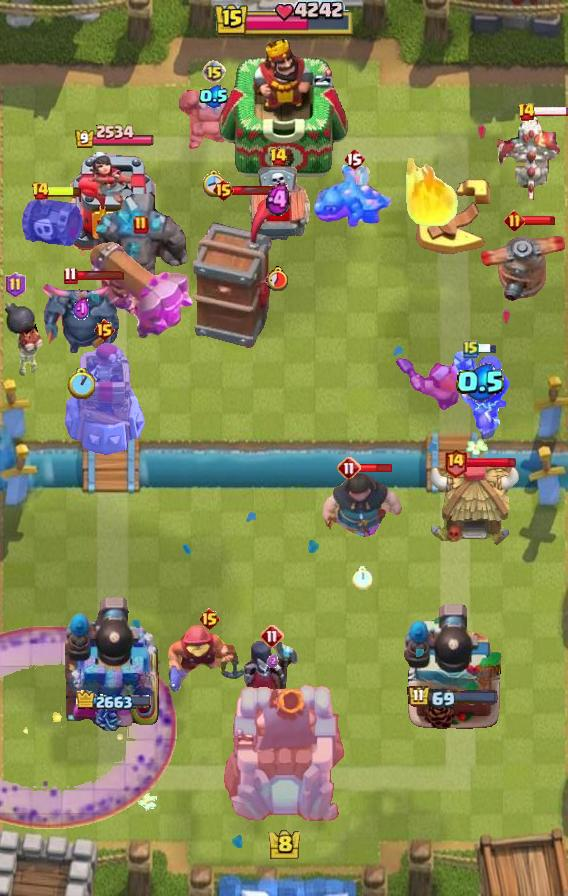cannoneer-tower: (93, 194, 191, 296)
clock: (213, 0, 355, 40)
dark-prince: (480, 217, 568, 301)
dart-goblin: (191, 194, 281, 350)
electro-spirit: (456, 362, 506, 401), (266, 183, 290, 217), (199, 84, 229, 108), (73, 297, 91, 322), (266, 654, 277, 668)
elixir: (67, 368, 95, 399), (202, 170, 226, 198), (266, 266, 290, 291), (351, 566, 373, 590)
elixir-golem-mid: (243, 165, 313, 251)
emote: (466, 455, 517, 469), (232, 185, 282, 196), (75, 271, 125, 282), (47, 186, 83, 199), (532, 106, 568, 118), (359, 462, 394, 474), (522, 215, 556, 226), (478, 343, 498, 355)
fireball: (165, 622, 253, 694)
furnace: (87, 239, 195, 339)
golemite: (38, 279, 124, 355)
graveyard: (312, 165, 396, 229)
ice-golem: (0, 296, 48, 378)
inferno-dragon: (452, 345, 510, 439)
king-tower: (218, 37, 350, 181), (221, 682, 347, 826)
mighty-miner: (395, 356, 475, 418)
mini-pekka: (496, 116, 568, 202)
prince: (426, 458, 520, 548)
queen-tower: (69, 152, 159, 256)
rascal-boy: (244, 638, 300, 710)
rocket: (0, 625, 176, 829)
royal-hog: (320, 472, 404, 550)
royal-recruit-evolution: (21, 193, 83, 249)
selected: (407, 686, 499, 711), (73, 124, 154, 150), (75, 690, 152, 714)
text: (444, 447, 469, 477), (202, 60, 226, 84), (337, 456, 361, 480), (260, 624, 284, 648), (5, 272, 27, 298), (212, 178, 235, 202), (93, 318, 116, 342), (198, 607, 221, 631), (343, 147, 365, 171), (504, 210, 525, 231), (516, 102, 535, 122), (269, 147, 288, 167), (31, 181, 50, 201), (133, 215, 149, 235), (463, 339, 479, 359), (62, 267, 77, 286)
tower-bar: (65, 593, 163, 731), (403, 601, 503, 731)
valkyrie: (401, 158, 461, 228)
valkyrie-evolution: (178, 84, 250, 152)
zappy: (62, 341, 147, 457)
